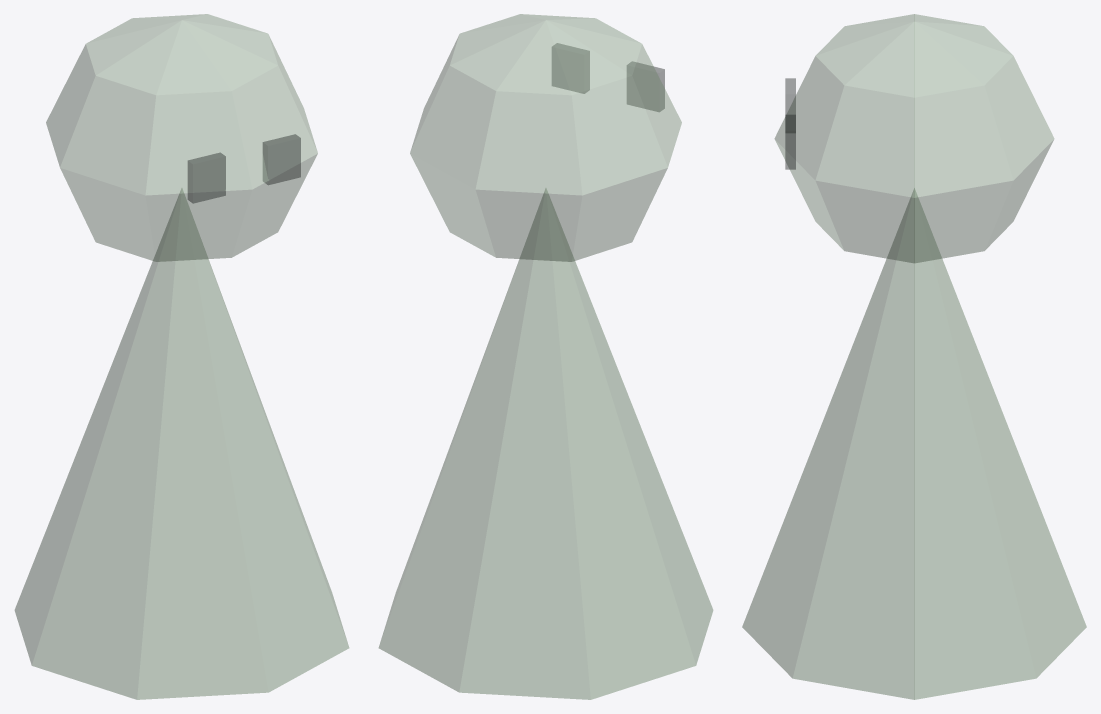
File: SM_Summon_9102_LostSoul.glb
3 views of the same model, side by side, from view 1: azimuth 30°, elevation 25°; view 2: azimuth 150°, elevation 25°; view 3: azimuth 270°, elevation 25° (orthographic).
Parts seen in each view (by area): view 1: SM_Summon_9102_LostSoul; view 2: SM_Summon_9102_LostSoul; view 3: SM_Summon_9102_LostSoul.
Boxes of the visible parts, left/top/right/bottom form: SM_Summon_9102_LostSoul: left=15, top=14, right=348, bottom=699; SM_Summon_9102_LostSoul: left=379, top=14, right=712, bottom=699; SM_Summon_9102_LostSoul: left=742, top=14, right=1086, bottom=699.
Size of the model in its own units: 0.64 by 1.24 by 0.64.
